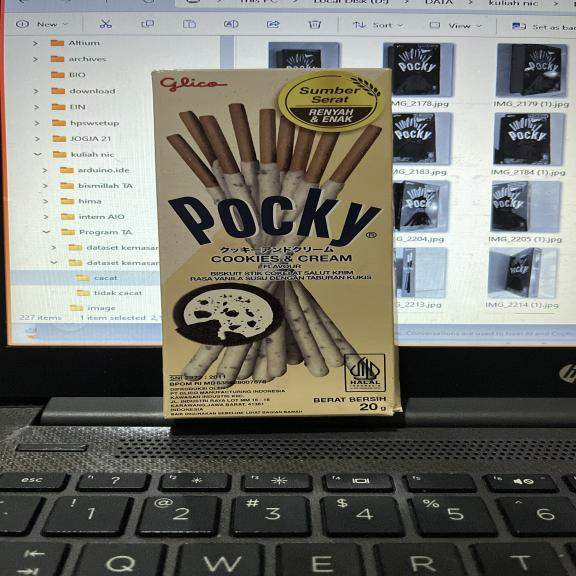Kertas: (157, 71, 399, 416)
